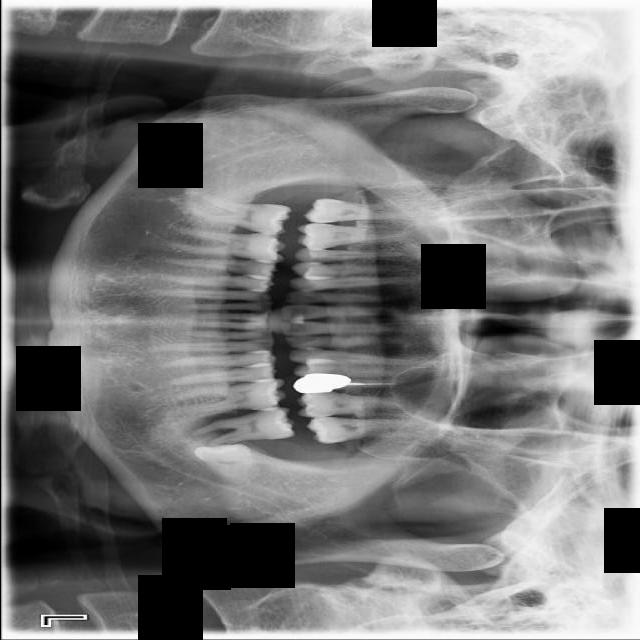52: (291, 373, 351, 394), (280, 320, 328, 336), (280, 305, 325, 321)
73: (46, 614, 56, 620)
BioHorizons Implant: (305, 415, 427, 448)
Biomet 3i Implant: (191, 423, 265, 490)
Blue Sky Bio Implant: (189, 405, 295, 450)
Caries: (303, 198, 430, 223)
Implant: (186, 192, 293, 238)
